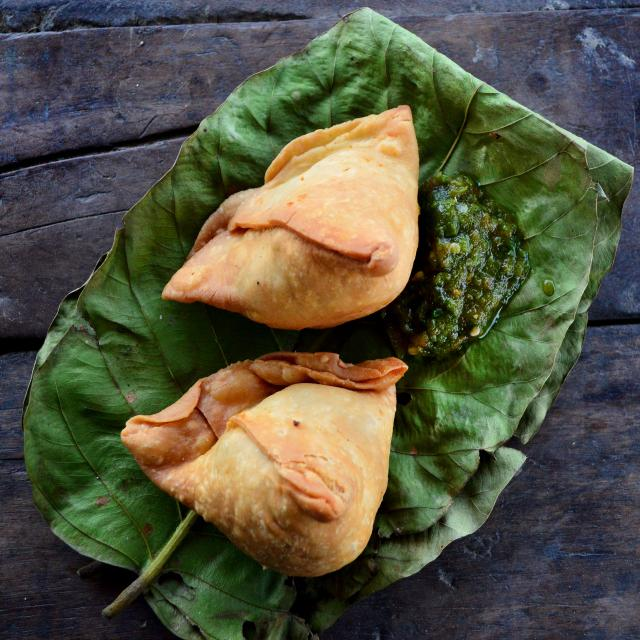SAMOSA: (118, 351, 409, 579), (159, 96, 420, 332)
